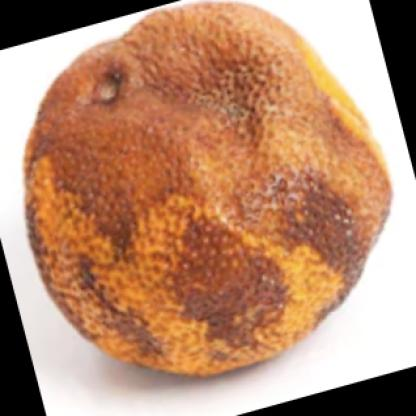rotten: (26, 5, 391, 377)
